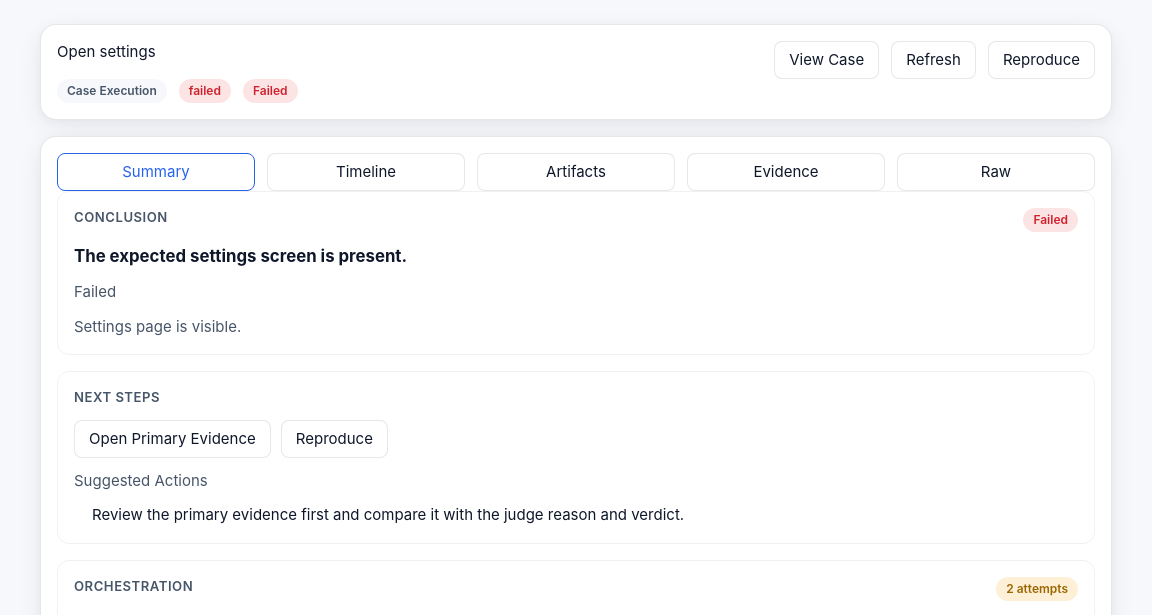
Test: RunDetailPage › opens primary evidence from summary actions
Click the button "Open Primary Evidence" at (172, 439), box [74, 420, 271, 458]
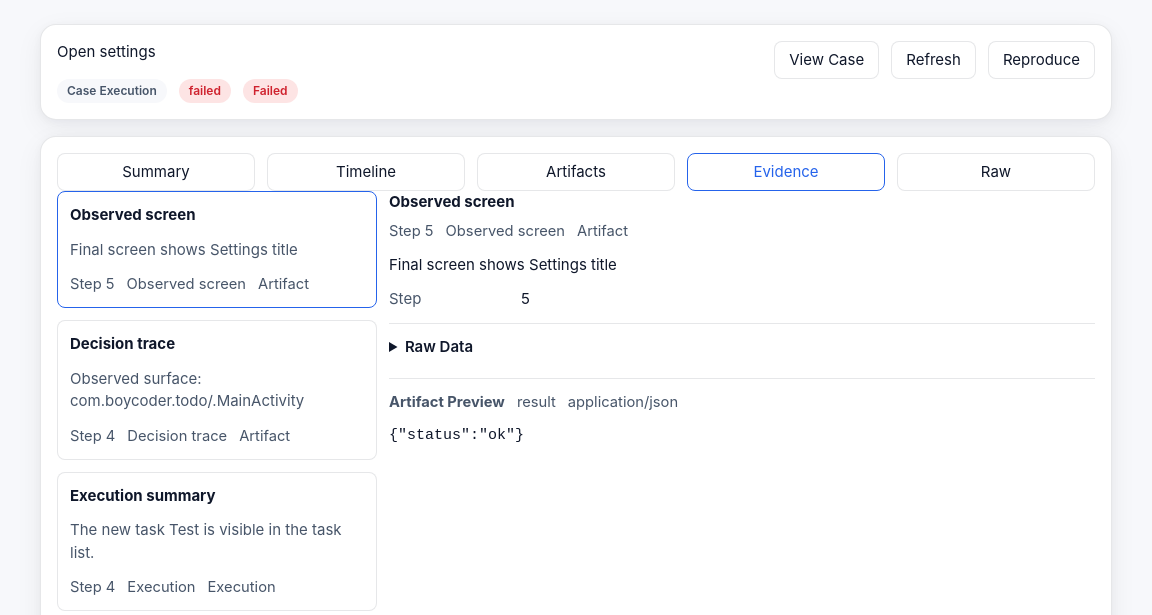
Now the text "Final screen shows Settings title" is shown, box [70, 240, 298, 258]
